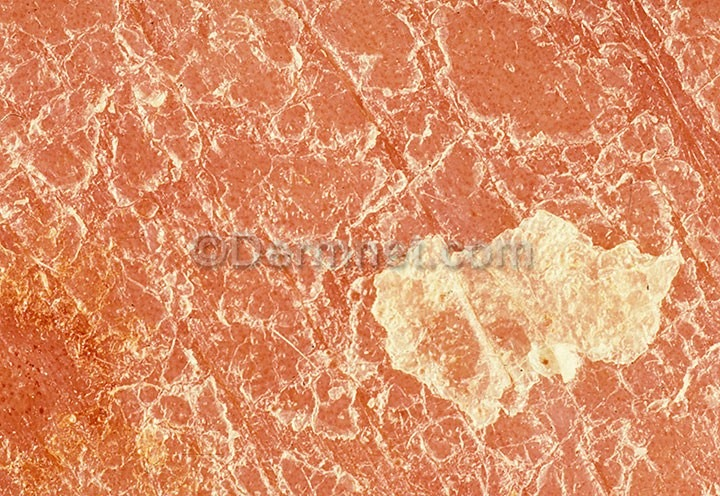Psoriasis: (17, 10, 693, 474)
